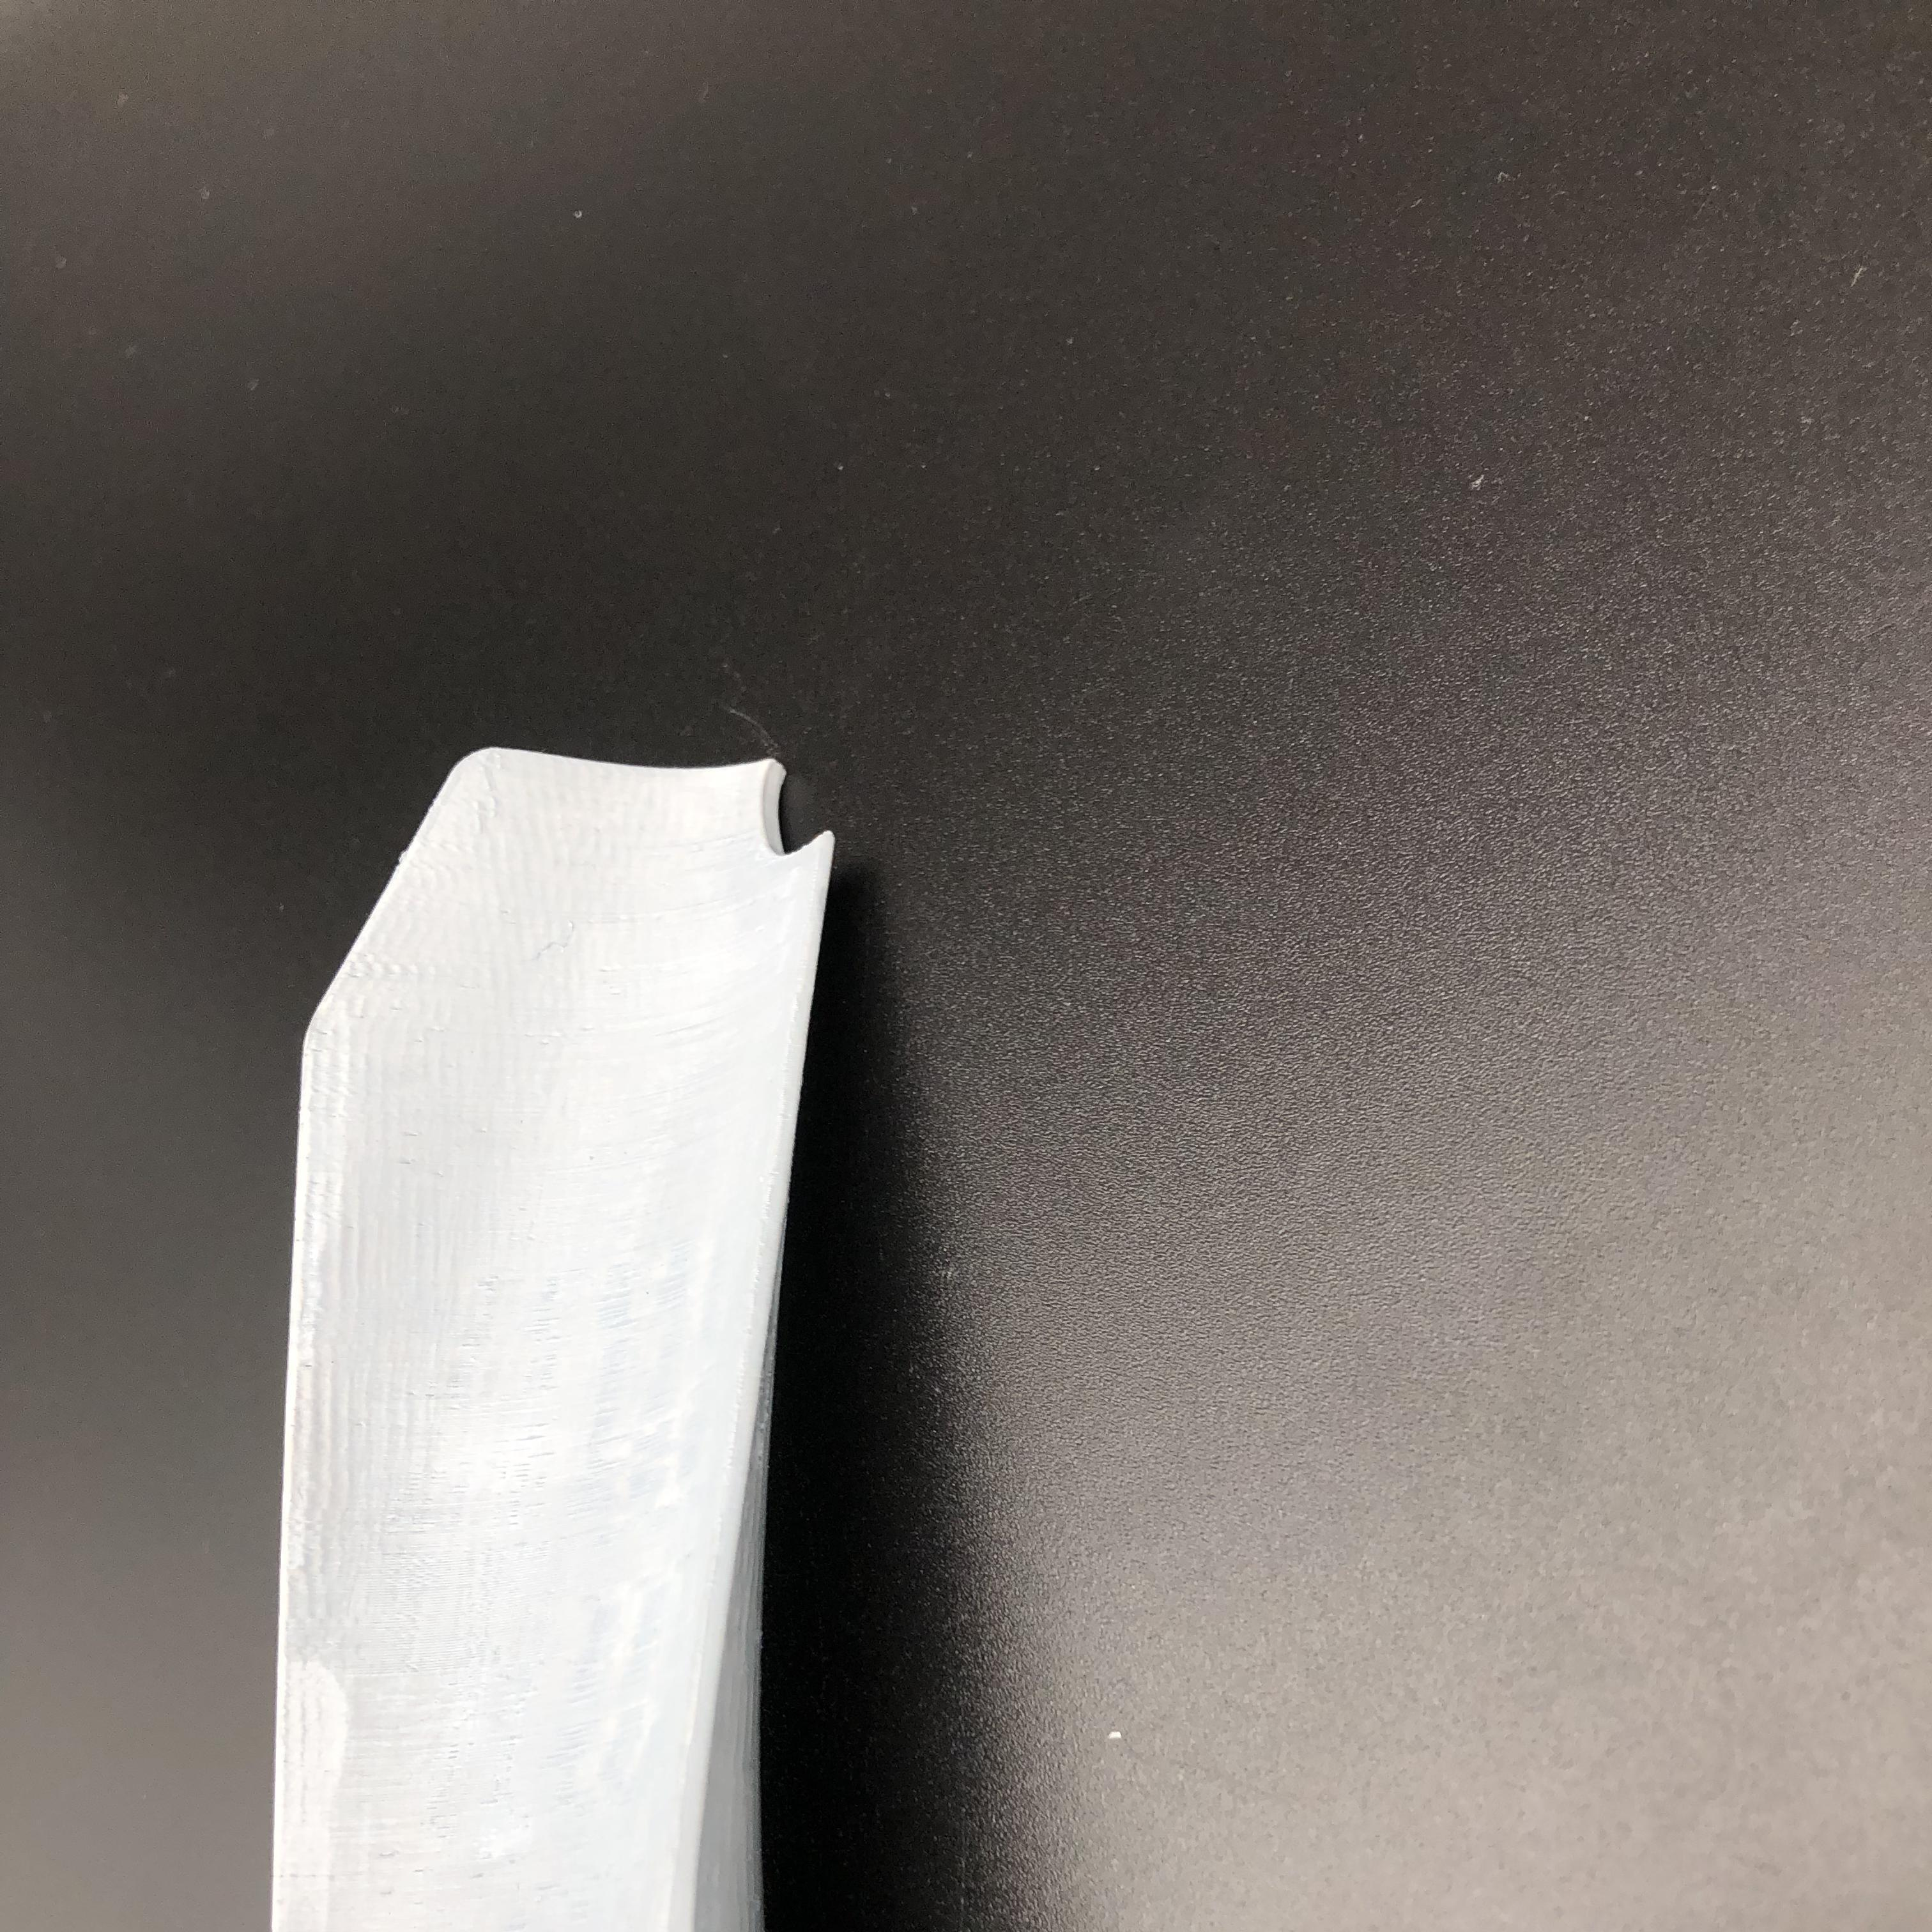fracture: (718, 743, 846, 856)
